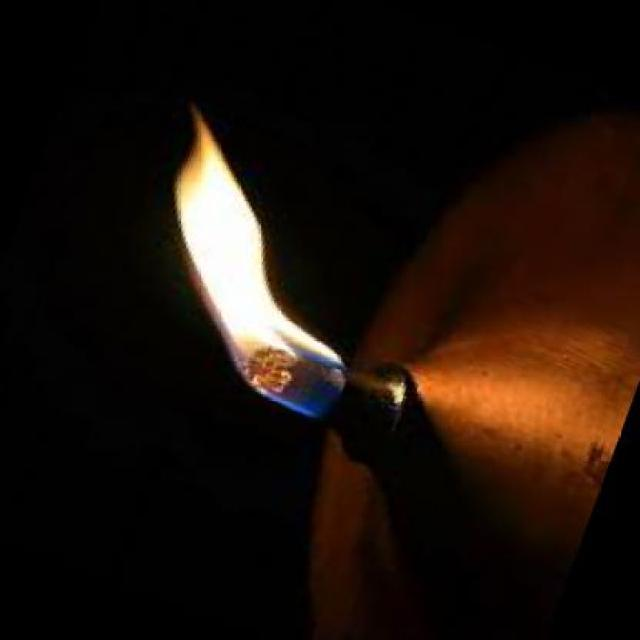Fire: (168, 108, 345, 420)
